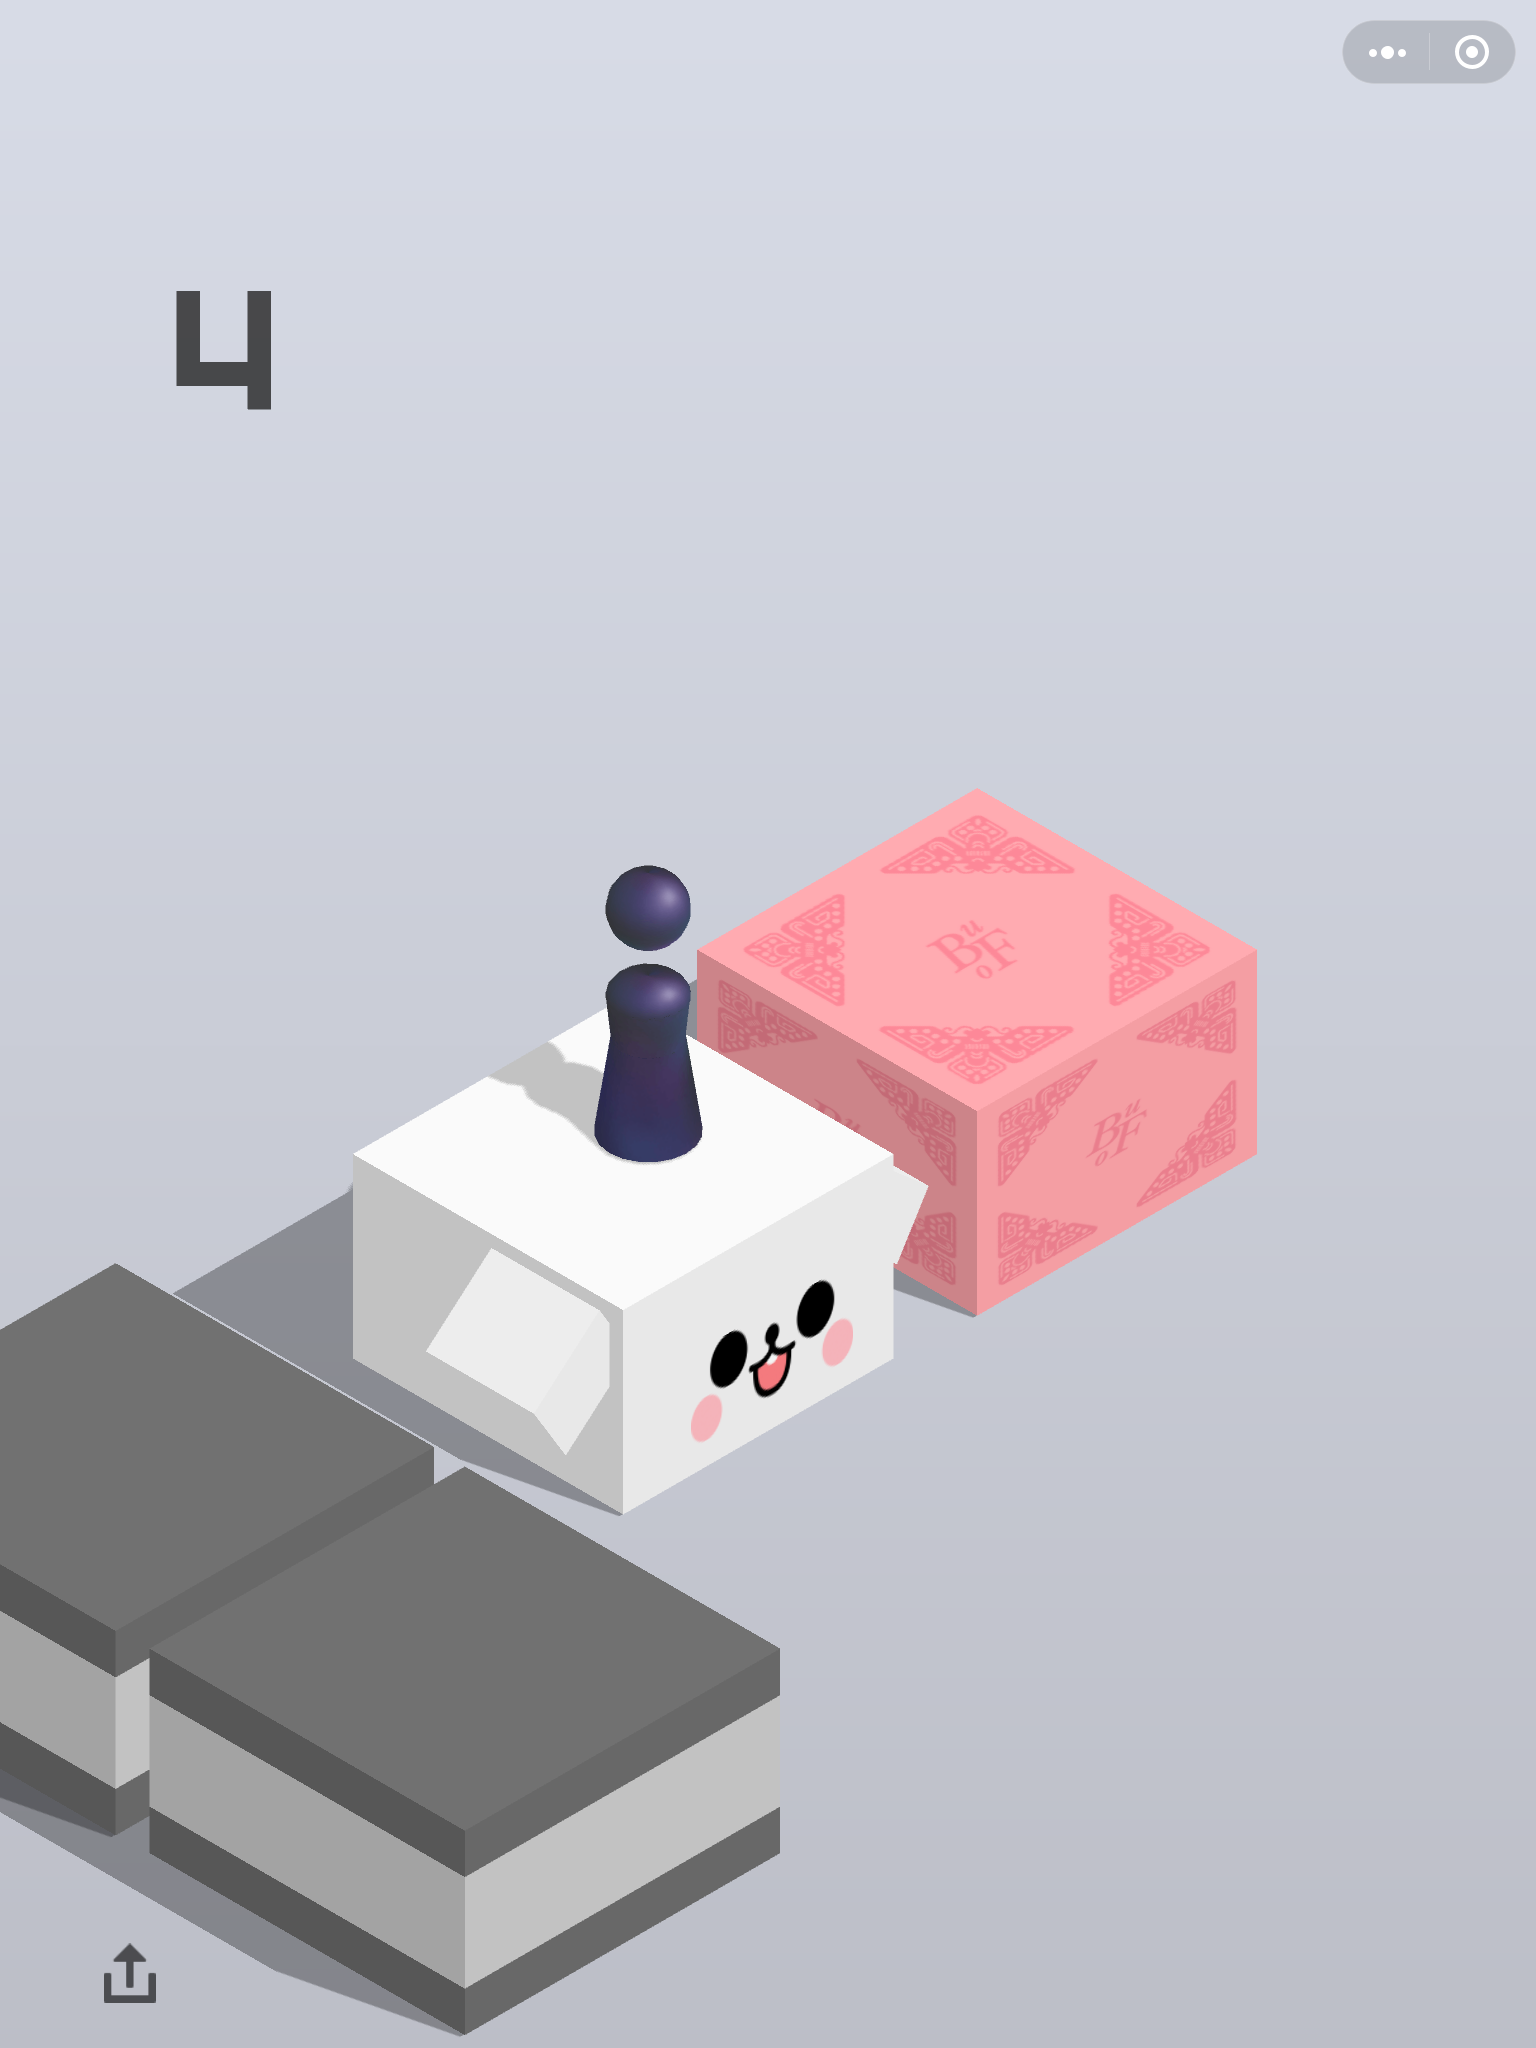f: (144, 1464, 787, 2037), (694, 785, 1263, 1324), (347, 993, 928, 1519), (2, 1256, 437, 1838)
r: (591, 863, 708, 1166)
